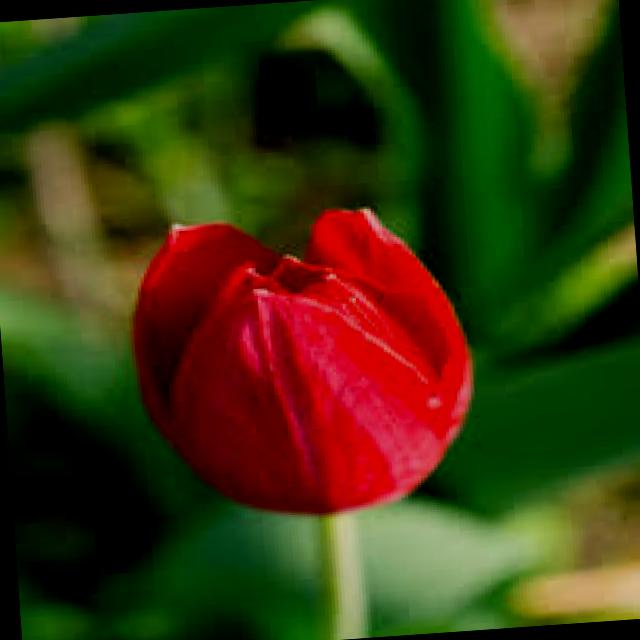tulip: (56, 180, 515, 556)
